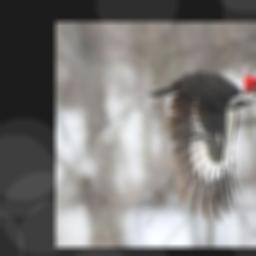Woodpecker: (146, 72, 256, 220)
